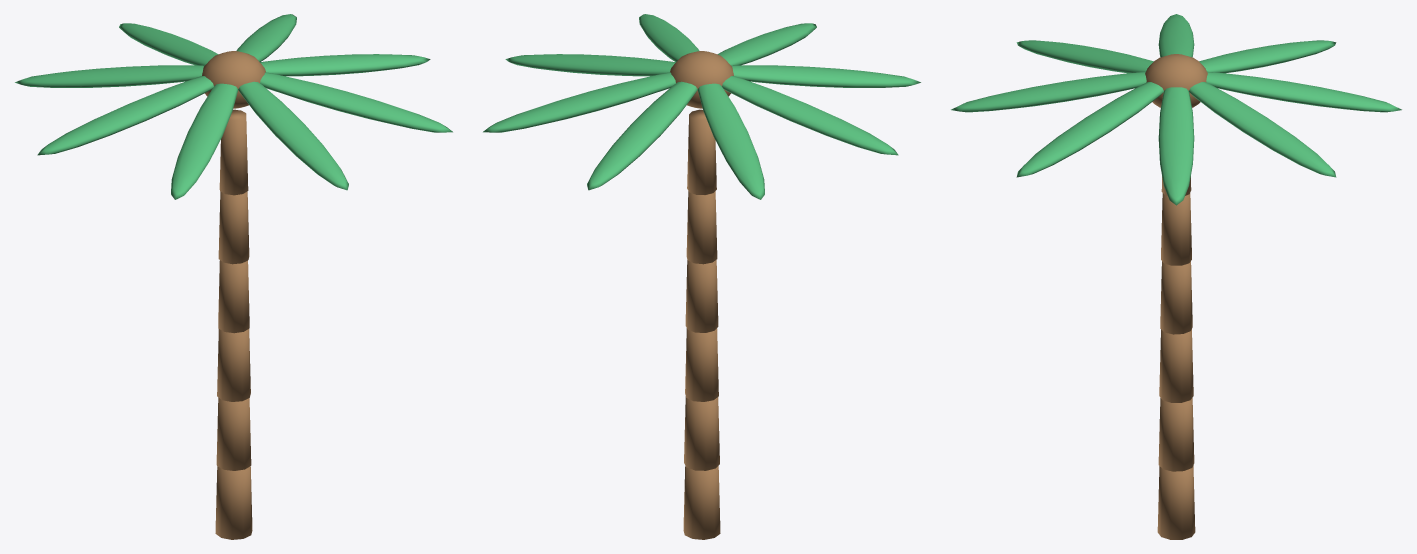
File: palm.glb
3 renders of one model, left to right at view 1: azimuth 30°, elevation 25°; view 2: azimuth 150°, elevation 25°; view 3: azimuth 270°, elevation 25°, orthographic.
Visible parts, largest first — view 1: frond_4, frond_6, frond_7, frond_5, frond_3, frond_0, trunk_0, trunk_1, trunk_2, trunk_3, trunk_5, trunk_4 (+3 smaller); view 2: frond_4, frond_2, frond_1, frond_3, frond_5, frond_0, trunk_0, trunk_1, trunk_2, trunk_3, trunk_5, trunk_4 (+3 smaller); view 3: frond_1, frond_7, frond_0, frond_2, frond_6, trunk_0, trunk_1, trunk_2, frond_3, frond_5, trunk_3, trunk_4 (+2 smaller).
Part boxes in pixels (x1=…): frond_4: x1=37, y1=76, x2=213, y2=155; frond_6: x1=238, y1=81, x2=348, y2=190; frond_7: x1=260, y1=72, x2=452, y2=132; frond_5: x1=171, y1=83, x2=238, y2=199; frond_3: x1=15, y1=65, x2=204, y2=87; frond_0: x1=260, y1=54, x2=430, y2=76; trunk_0: x1=215, y1=466, x2=252, y2=539; trunk_1: x1=216, y1=397, x2=251, y2=470; trunk_2: x1=217, y1=329, x2=250, y2=401; trunk_3: x1=218, y1=260, x2=249, y2=333; trunk_5: x1=219, y1=109, x2=248, y2=195; trunk_4: x1=218, y1=191, x2=249, y2=264; frond_4: x1=722, y1=76, x2=898, y2=155; frond_2: x1=587, y1=81, x2=697, y2=190; frond_1: x1=483, y1=72, x2=675, y2=132; frond_3: x1=697, y1=83, x2=764, y2=199; frond_5: x1=731, y1=65, x2=920, y2=87; frond_0: x1=505, y1=54, x2=675, y2=76; trunk_0: x1=683, y1=466, x2=720, y2=539; trunk_1: x1=684, y1=396, x2=719, y2=470; trunk_2: x1=685, y1=328, x2=718, y2=401; trunk_3: x1=685, y1=260, x2=718, y2=332; trunk_5: x1=687, y1=109, x2=716, y2=194; trunk_4: x1=686, y1=191, x2=717, y2=264; frond_1: x1=1189, y1=82, x2=1336, y2=177; frond_7: x1=1016, y1=82, x2=1163, y2=177; frond_0: x1=1158, y1=87, x2=1194, y2=205; frond_2: x1=1206, y1=71, x2=1401, y2=112; frond_6: x1=951, y1=71, x2=1146, y2=112; trunk_0: x1=1157, y1=465, x2=1195, y2=539; trunk_1: x1=1158, y1=398, x2=1194, y2=471; trunk_2: x1=1159, y1=329, x2=1193, y2=402; frond_3: x1=1199, y1=40, x2=1336, y2=73; frond_5: x1=1016, y1=40, x2=1153, y2=73; trunk_3: x1=1160, y1=261, x2=1192, y2=334; trunk_4: x1=1161, y1=193, x2=1191, y2=265.
Size of the model in its own units: 4.56 by 5.29 by 4.56.
